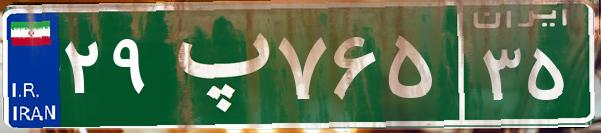2: (57, 26, 110, 107)
3: (475, 38, 525, 113)
5: (385, 28, 445, 110), (525, 38, 570, 115)
6: (330, 28, 385, 110)
7: (273, 28, 330, 110)
9: (110, 28, 158, 105)
پ: (158, 15, 273, 115)
